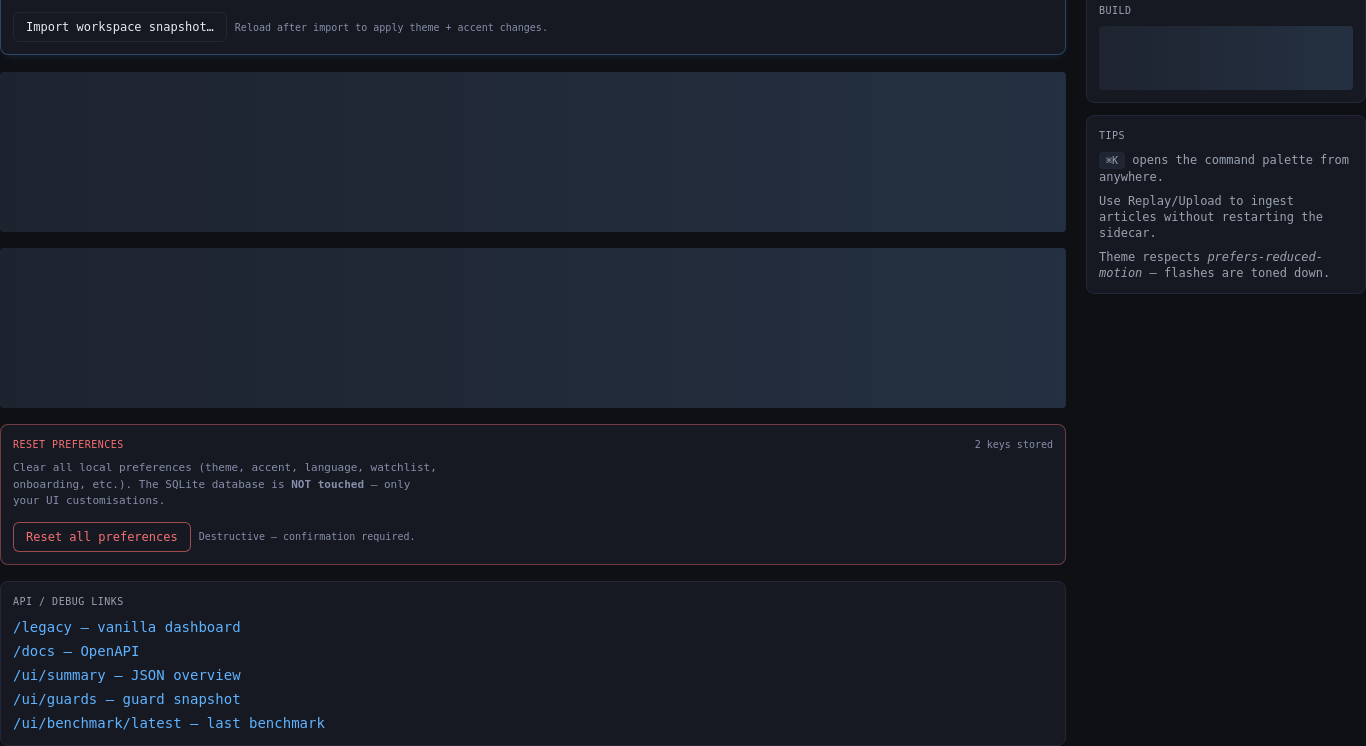
ResetPreferencesCard — UI flow › Cancel closes the modal without wiping storage or reloading
(page scrolled)
Click the button with test id "reset-preferences-open-btn": click(102, 536) [13,522,191,552]
(page scrolled)
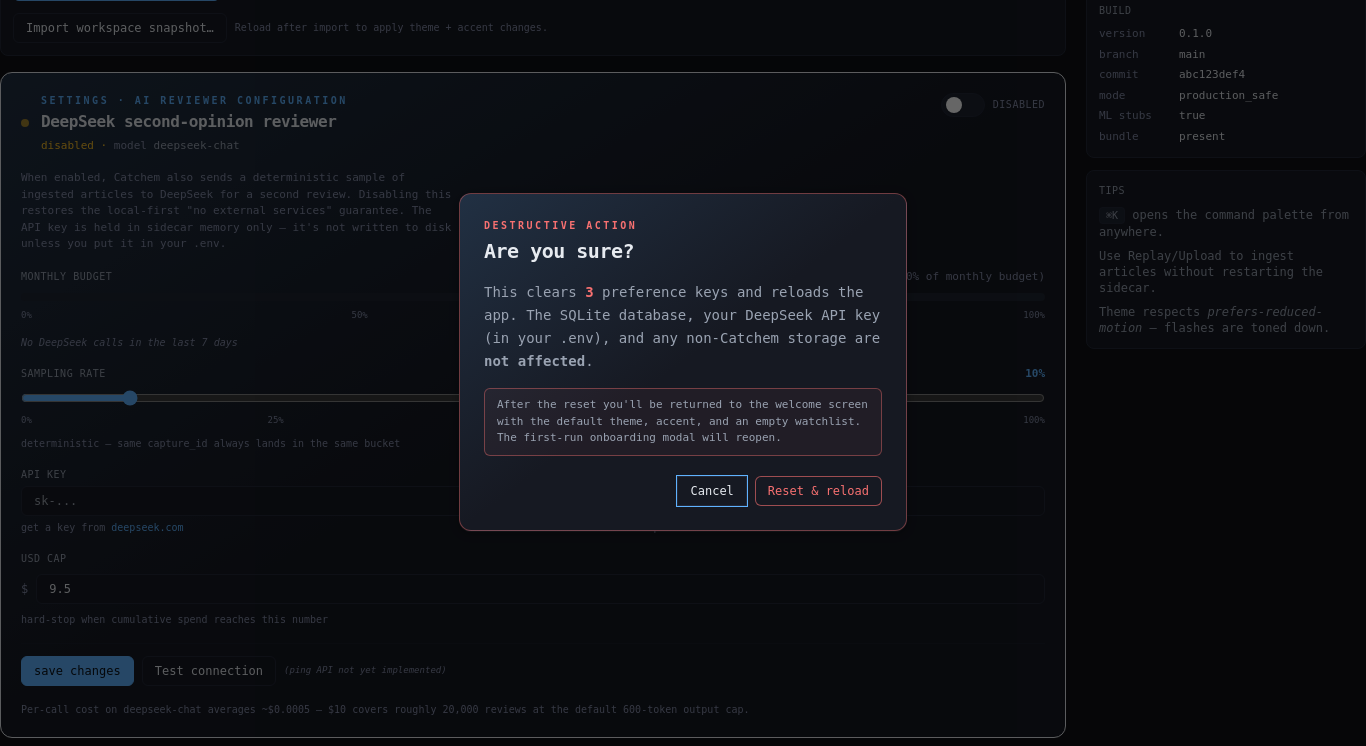
Click the button with test id "reset-preferences-modal-cancel": click(712, 491) [678,476,747,506]
(page scrolled)
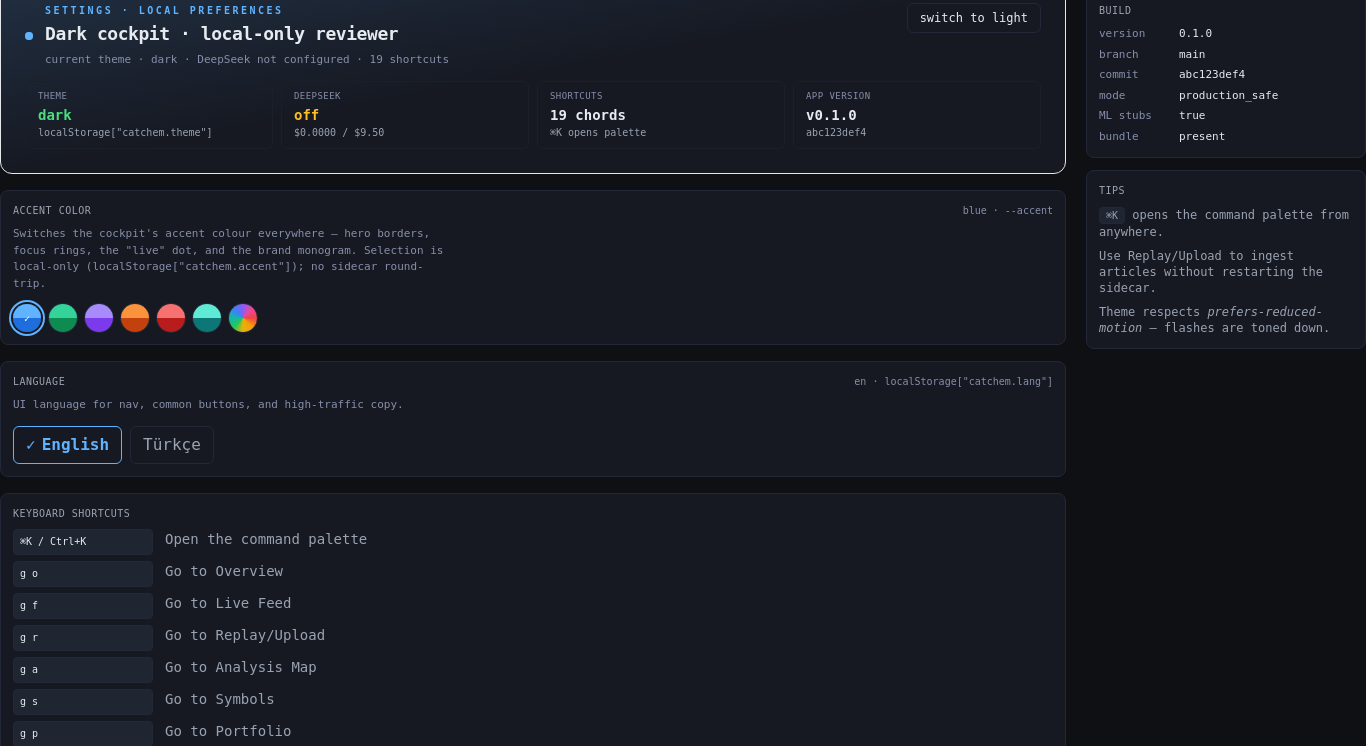
Expected: the text "dark" is shown, [38,107,72,123]
Now the dialog with test id "reset-preferences-modal-card" is gone
